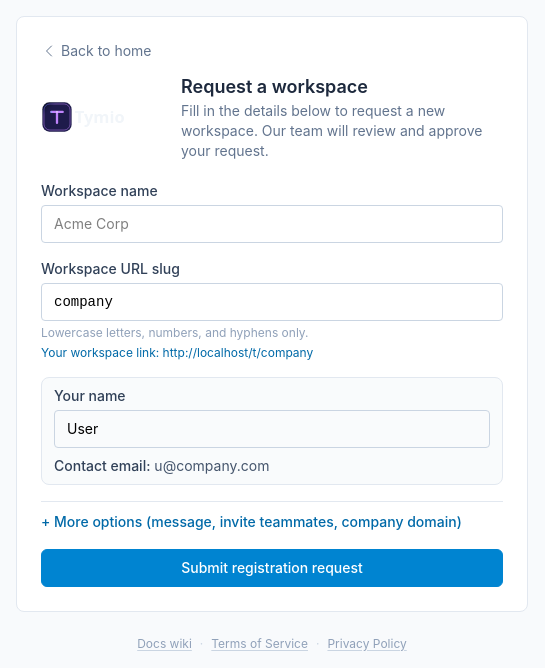
Test case: RegisterTeamPage › shows notice when auto-approve failed and request stayed PENDING
In the field with placeholder "Acme Corp": (272, 224) [41,205,503,243], type "Team C"
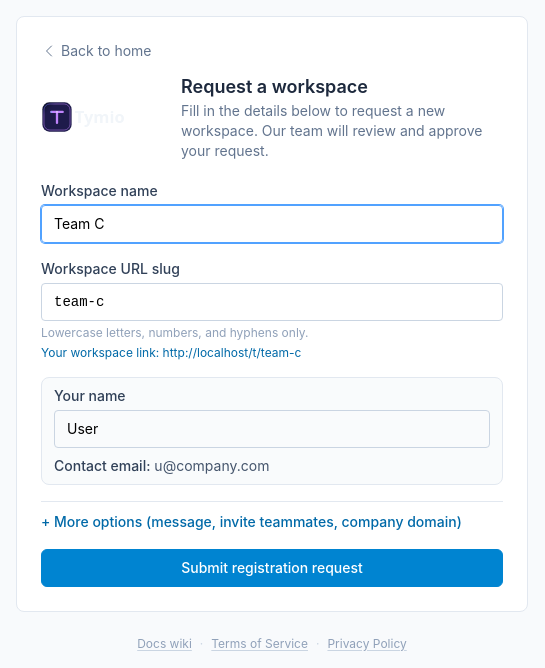
Click the button "Submit registration request": click(272, 568) [41,549,503,587]
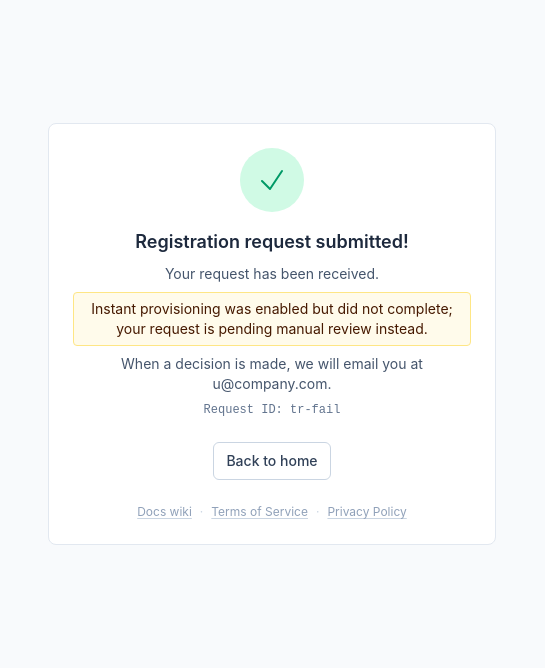
Now the text "Instant provisioning was enabled" is shown, box [91,300,453,337]
